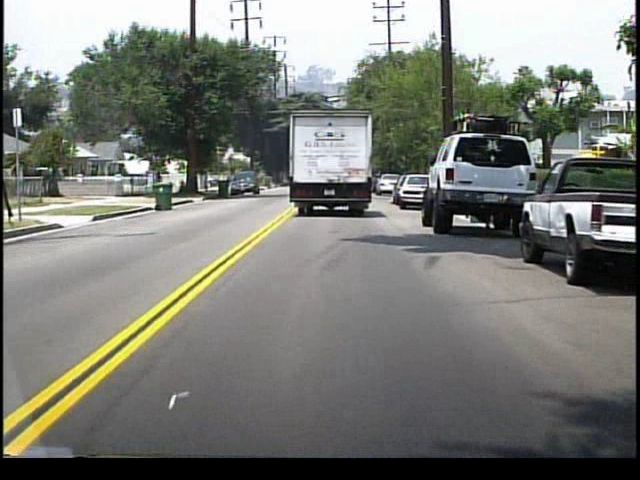person: (154, 168, 165, 196)
